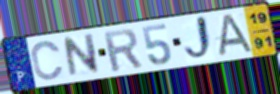5: (140, 22, 173, 67)
A: (215, 13, 256, 58)
C: (30, 39, 65, 82)
J: (183, 13, 216, 64)
N: (61, 31, 102, 79)
R: (101, 27, 145, 74)
